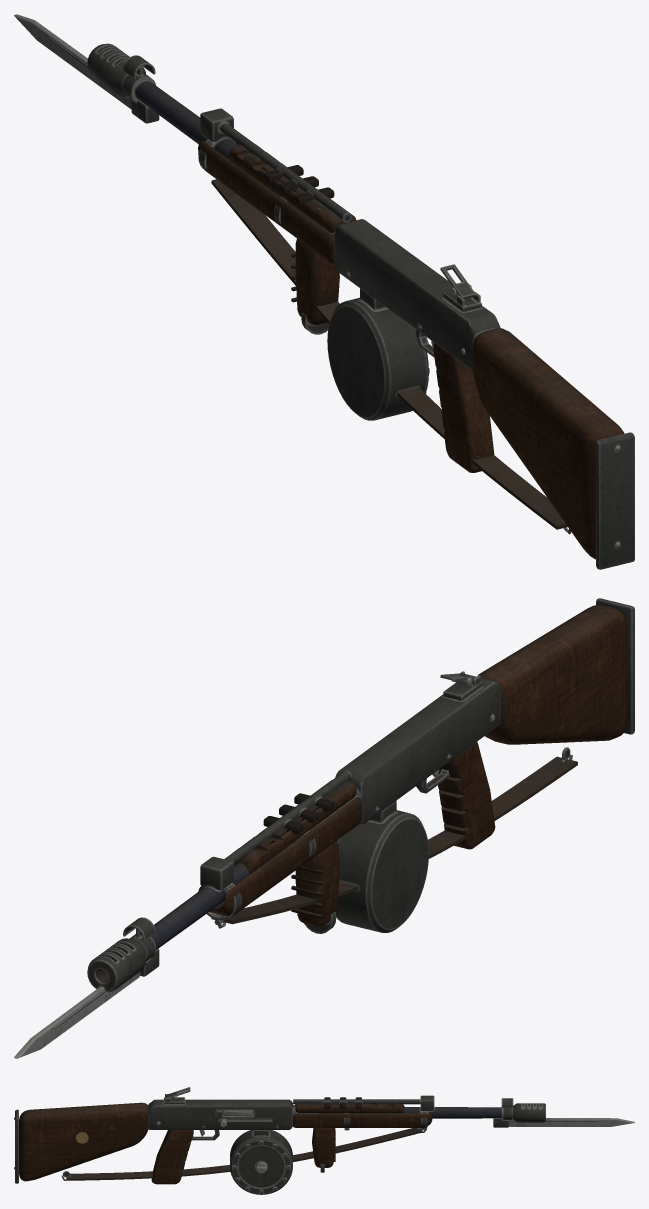
File: levy_auto_rifle.glb
The picture shows the model from 3 angles, top to bottom: view 1: azimuth 30°, elevation 25°; view 2: azimuth 150°, elevation 25°; view 3: azimuth 270°, elevation 25°; orthographic projection. The views are drawn at different scales.
Visible parts, largest first — view 1: levy_auto_rifle; view 2: levy_auto_rifle; view 3: levy_auto_rifle.
Boxes of the visible parts, x1,y1,x2,y2 form: levy_auto_rifle: (14, 14, 634, 569); levy_auto_rifle: (14, 598, 634, 1058); levy_auto_rifle: (14, 1087, 634, 1194).
Bounding box in the file's own units: 0.06 × 0.2125 × 1.18.
1 material, 1 textured.
